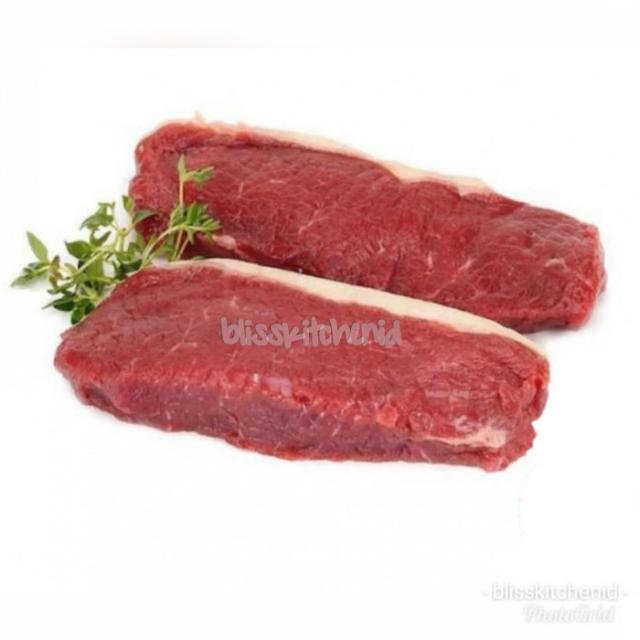beef: (107, 99, 618, 351), (31, 254, 567, 482)
